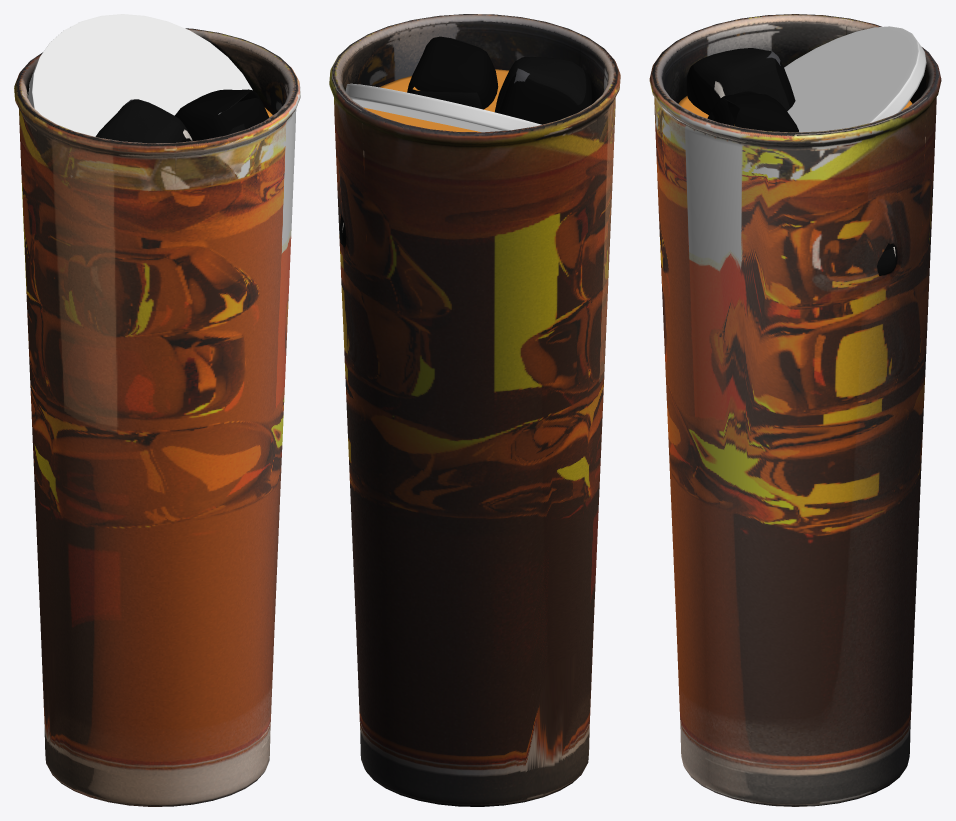
Rendered from iced_tea_glass.fbx.
3 renders of one model, left to right at view 1: azimuth 30°, elevation 25°; view 2: azimuth 150°, elevation 25°; view 3: azimuth 270°, elevation 25°, orthographic.
Visible parts, largest first — view 1: Circle, Cylinder.001, Cube.001, Cube; view 2: Circle, Cube, Cube.001, Cylinder.001, Circle.001; view 3: Circle, Cylinder.001, Cube, Cube.001.
Boxes of the visible parts, <box> form: Circle: <box>14,28,300,806</box>; Cylinder.001: <box>28,14,252,136</box>; Cube.001: <box>174,89,269,140</box>; Cube: <box>95,99,192,143</box>; Circle: <box>329,14,620,806</box>; Cube: <box>495,57,592,124</box>; Cube.001: <box>407,36,498,109</box>; Cylinder.001: <box>345,83,541,132</box>; Circle.001: <box>363,69,508,132</box>; Circle: <box>649,14,941,806</box>; Cylinder.001: <box>784,26,926,132</box>; Cube: <box>686,48,795,114</box>; Cube.001: <box>707,93,798,132</box>.
Size of the model in its own units: 35.39 by 95.15 by 35.39.
4 materials, 2 textured.
